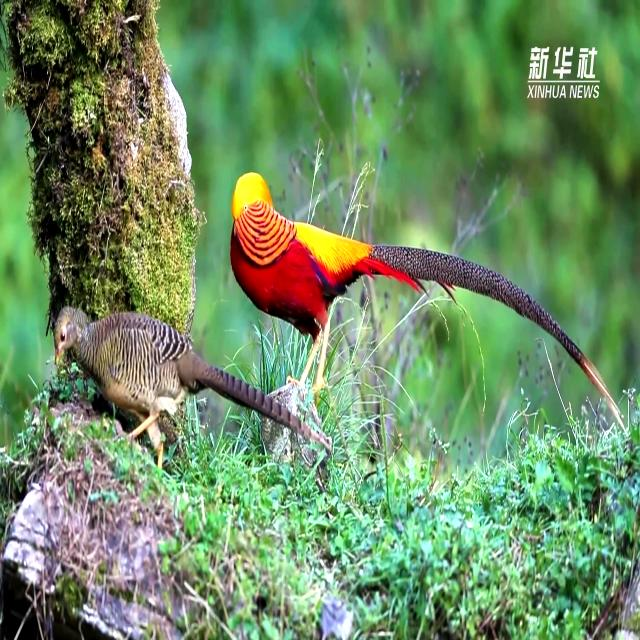Chrysolophus pictus feather: (369, 245, 617, 409)
